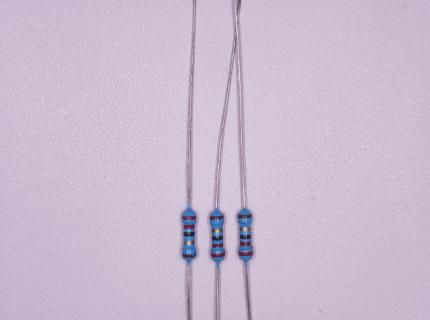Black band: (240, 233, 251, 239), (212, 235, 223, 240), (183, 232, 195, 236)
Brown band: (210, 216, 224, 221), (238, 214, 252, 219), (182, 254, 196, 258)
Gold band: (212, 228, 222, 233), (183, 241, 195, 245), (239, 227, 251, 231)
Red band: (238, 251, 253, 256), (211, 252, 225, 257), (182, 216, 196, 220), (183, 224, 194, 229), (240, 241, 251, 246), (212, 244, 223, 248)
